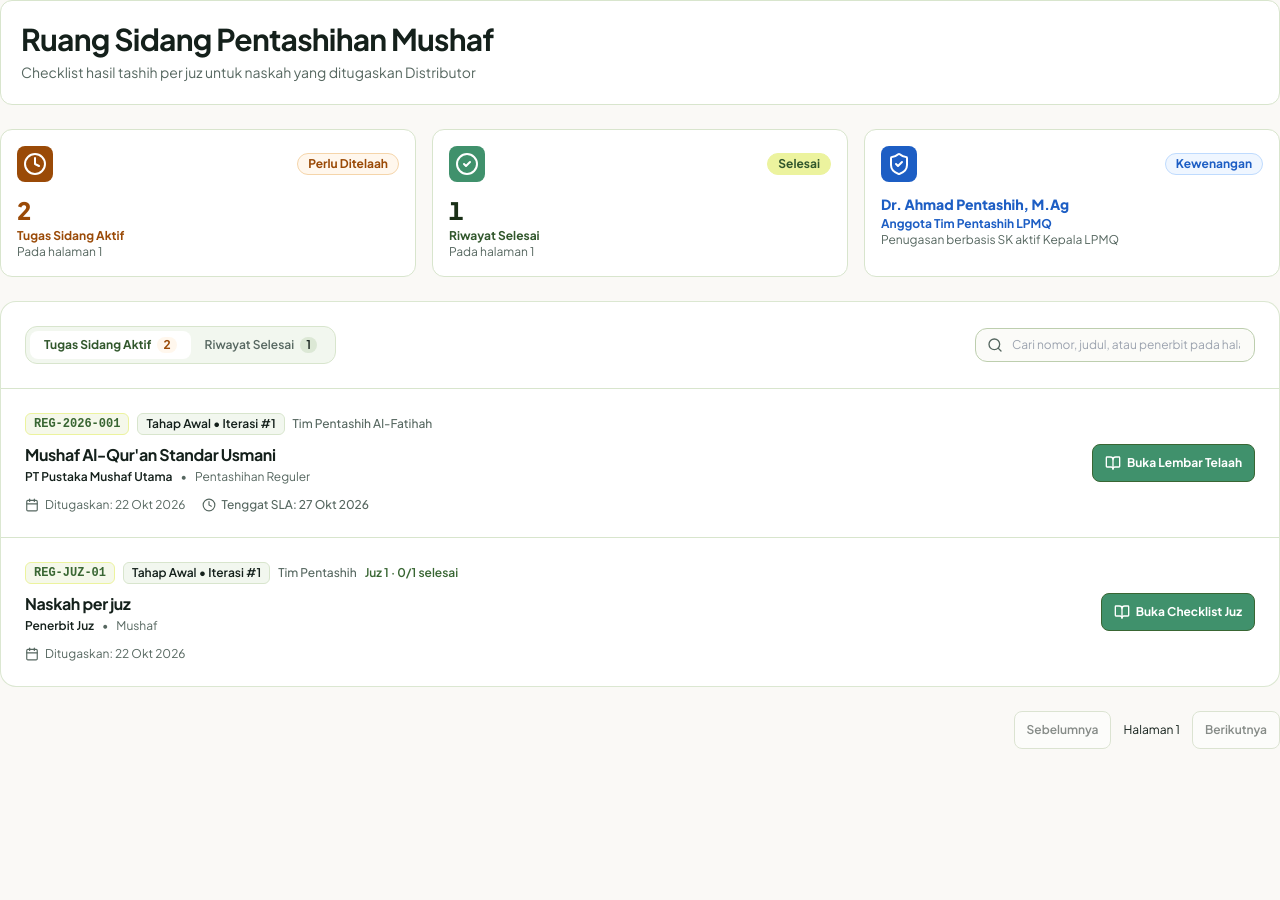
it: PentashihWorkspacePage Component › dapat membuka dialog input hasil sidang dan mencatat hasil evaluasi
The image size is (1280, 900).
Click the button "Buka Lembar Telaah" at (1173,463), box [1092,444,1255,482]
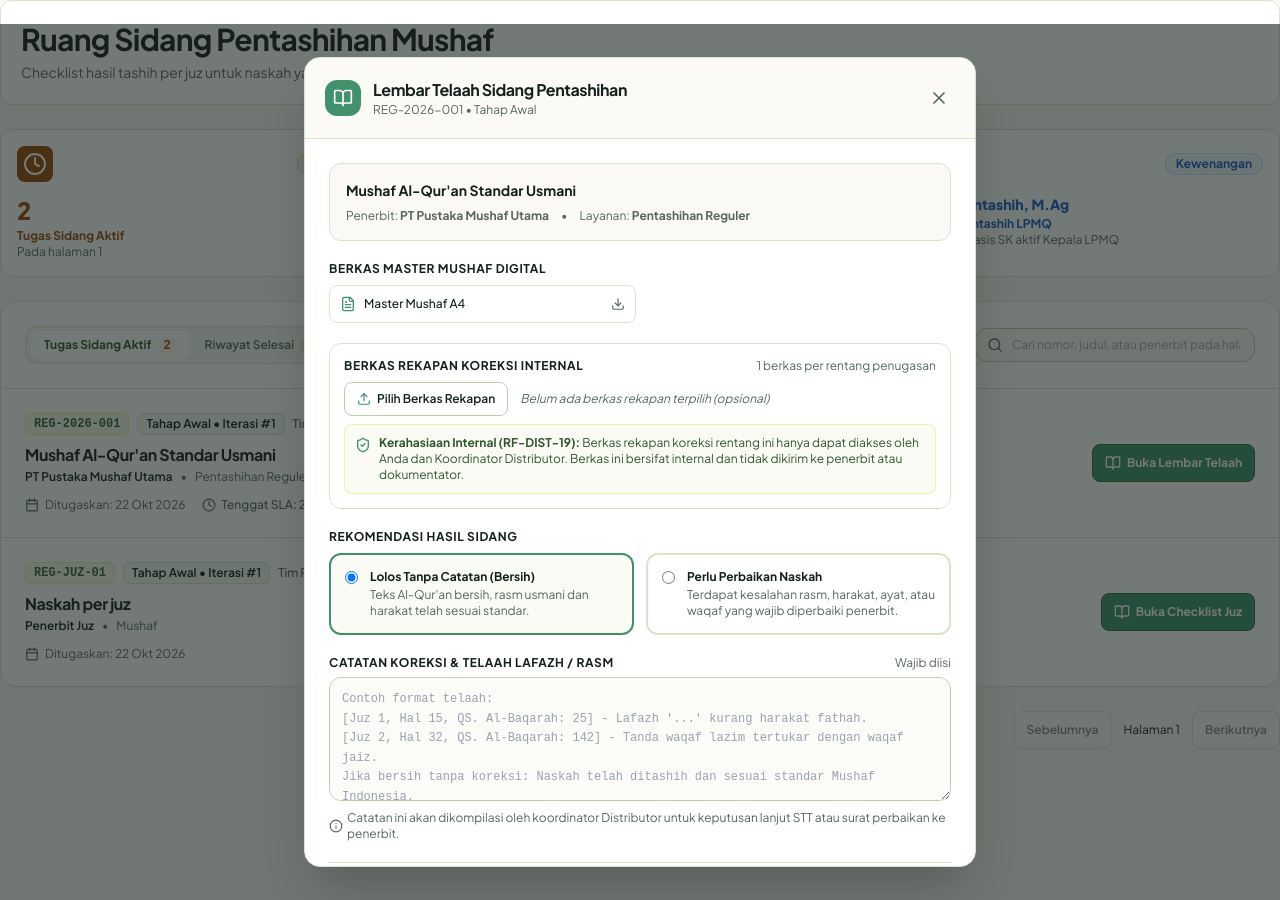
Check: the heading "Lembar Telaah Sidang Pentashihan" is shown, box [373,78,627,102]
Check: the text "Lolos Tanpa Catatan (Bersih)" is shown, box [370,569,535,584]
Check: the text "Catatan Koreksi & Telaah Lafazh / Rasm" is shown, box [329,655,614,671]
// Masukkan catatan sidang
Replace the text in the text box with placeholder "Contoh format telaah" with "Seluruh rasm dan harakat telah ditashih dengan cermat." at (640,739), box [329,677,951,800]
(page scrolled)
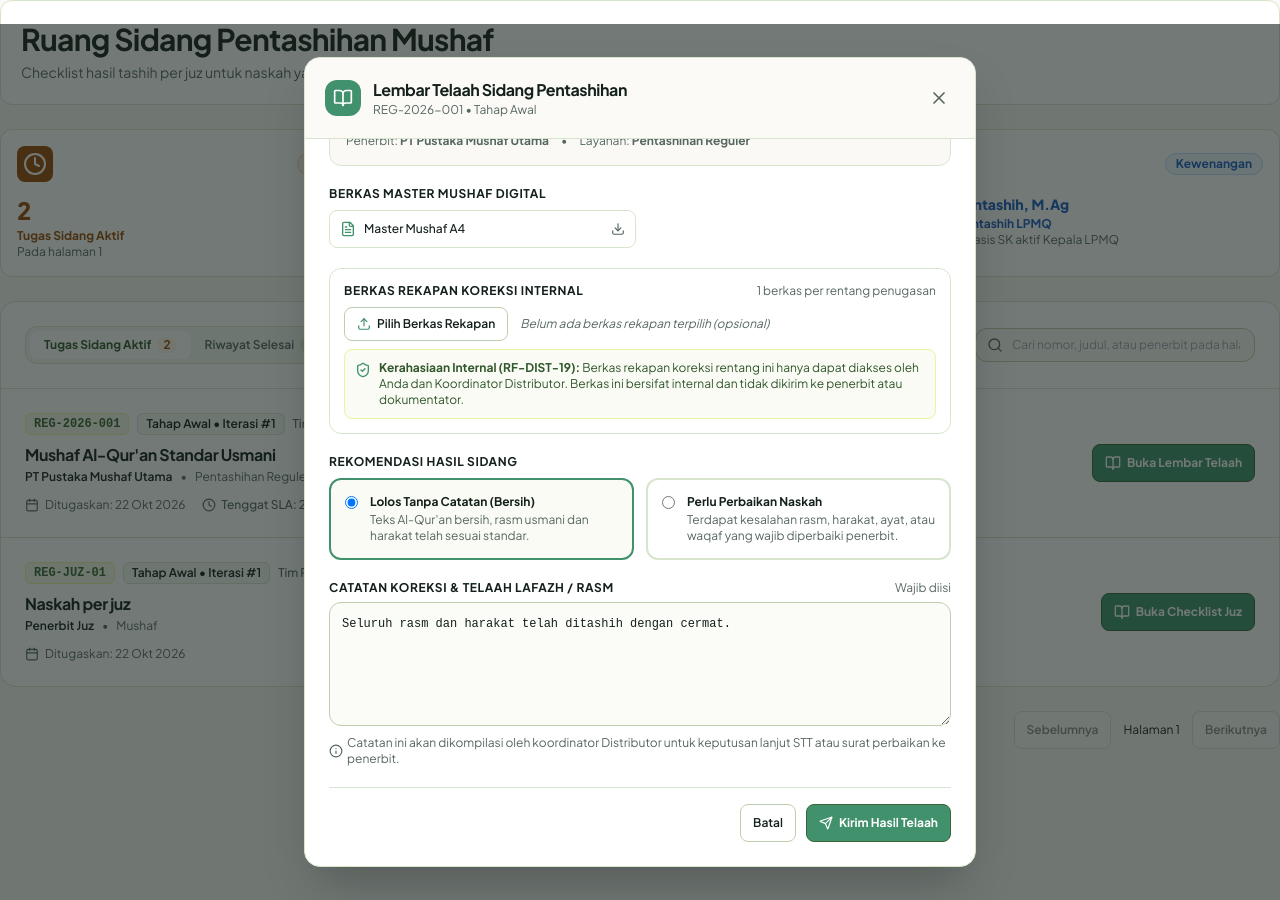
// Submit dialog
Click the button "Kirim Hasil Telaah" at (878,823), box [806,804,951,842]
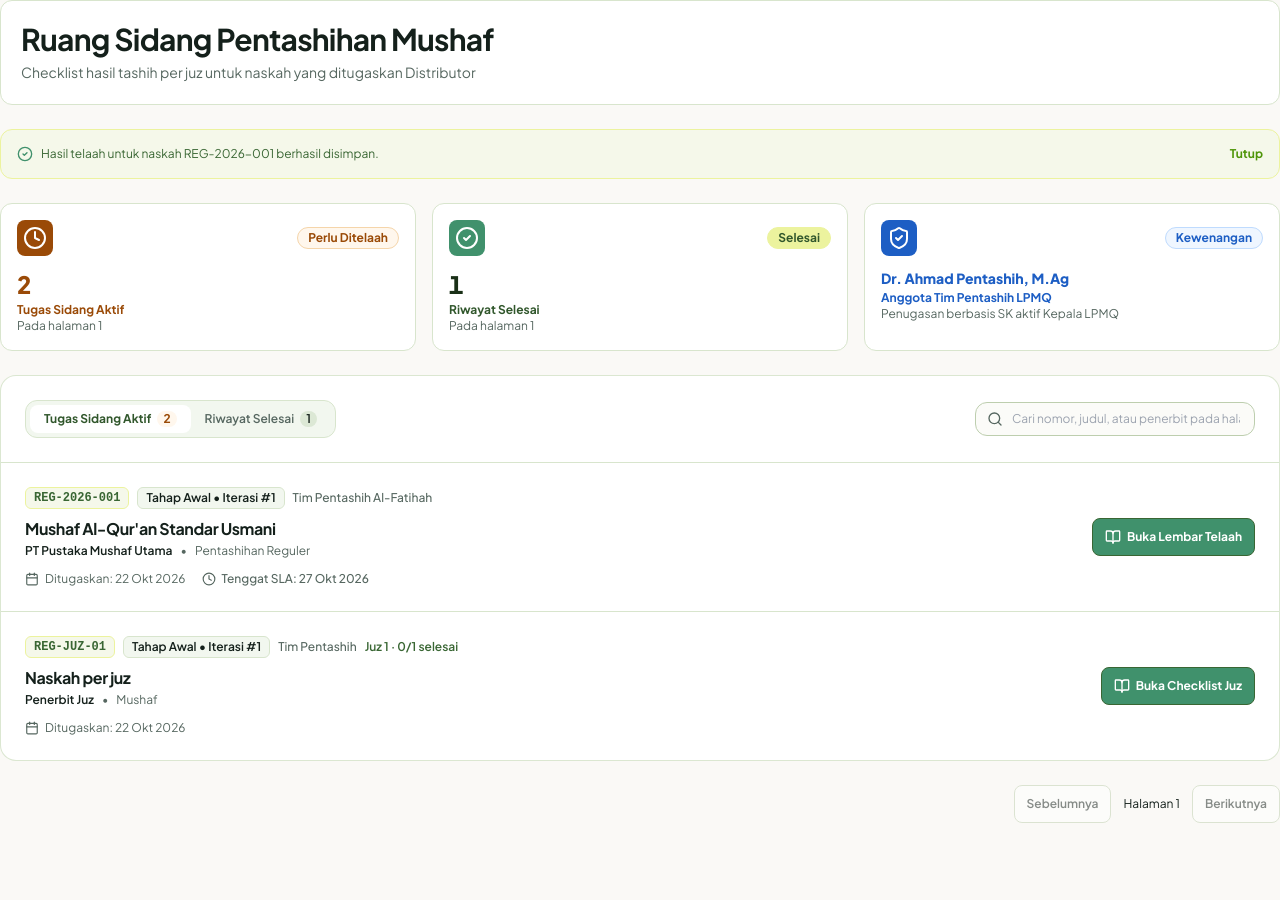
Check: the dialog is gone
